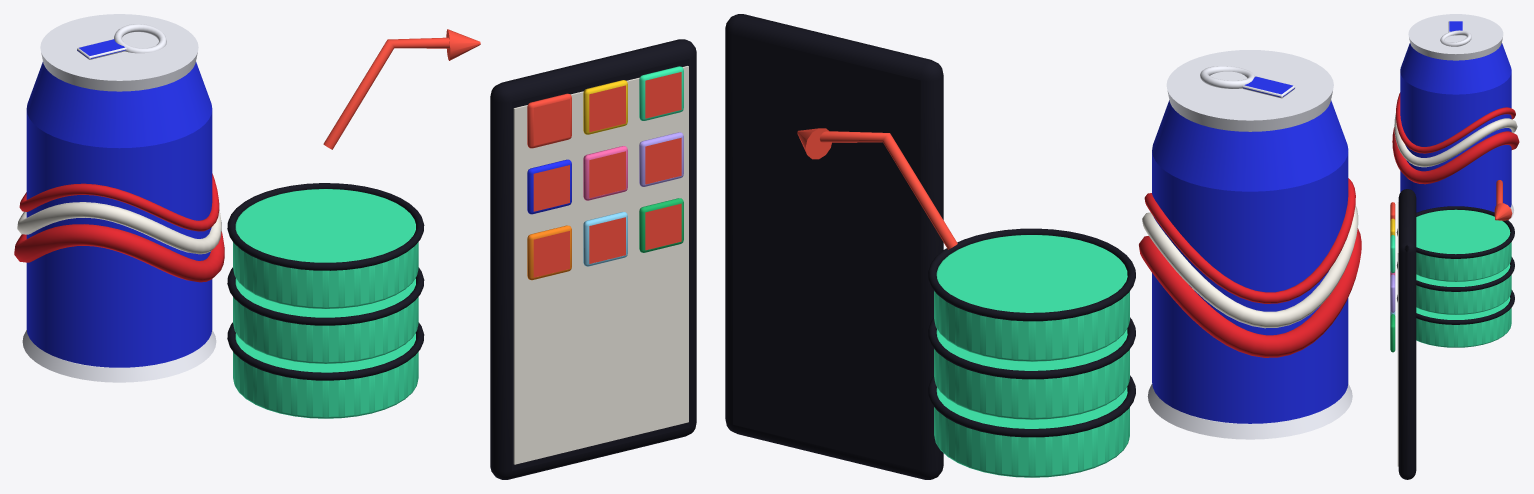
Rendered from can.glb.
3 views of the same model, side by side, from view 1: azimuth 30°, elevation 25°; view 2: azimuth 150°, elevation 25°; view 3: azimuth 270°, elevation 25° (orthographic). The views are drawn at different scales.
Visible parts, largest first — view 1: can.001, phone, db, tiles, arrows; view 2: phone, can.001, db, arrows; view 3: can.001, db, phone, tiles, arrows.
Part boxes in pixels (left/top/right/bottom): can.001: left=14, top=14, right=224, bottom=382; phone: left=490, top=39, right=696, bottom=479; db: left=227, top=183, right=424, bottom=418; tiles: left=527, top=66, right=683, bottom=280; arrows: left=323, top=29, right=480, bottom=149; phone: left=725, top=14, right=943, bottom=479; can.001: left=1139, top=50, right=1361, bottom=439; db: left=928, top=228, right=1135, bottom=477; arrows: left=797, top=128, right=957, bottom=249; can.001: left=1392, top=14, right=1519, bottom=220; db: left=1396, top=206, right=1514, bottom=347; phone: left=1397, top=189, right=1416, bottom=479; tiles: left=1390, top=202, right=1395, bottom=352; arrows: left=1494, top=180, right=1512, bottom=220.
Bounding box in the file's own units: 8.96 × 6.76 × 2.66.
